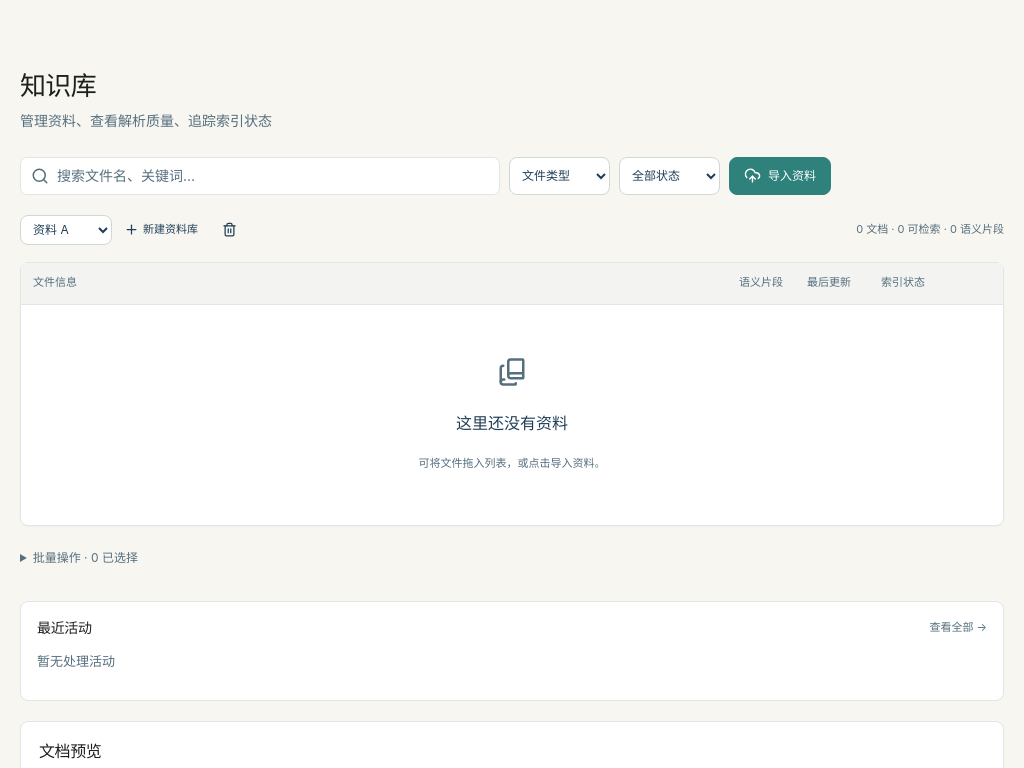
Test: old library response is ignored after switching
The image size is (1024, 768).
Select "资料 B" in the dropdown named "资料库". click: (66, 230)
box: [20,215,112,245]
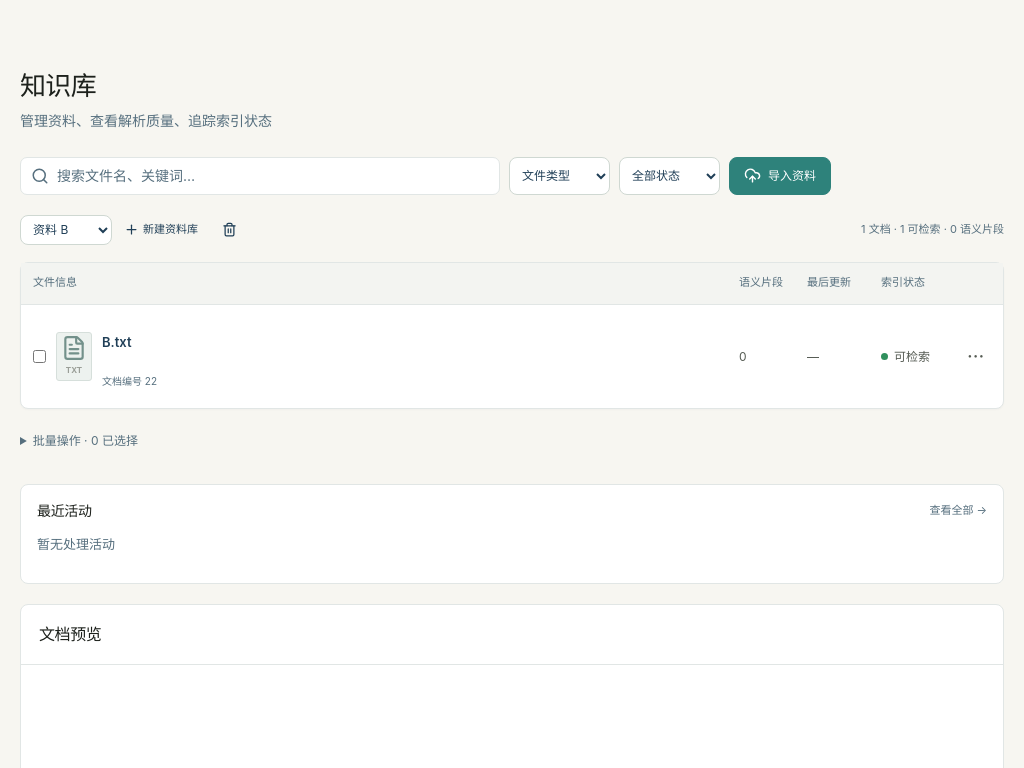
Now the button "B.txt" is shown, box [102,324,157,362]
